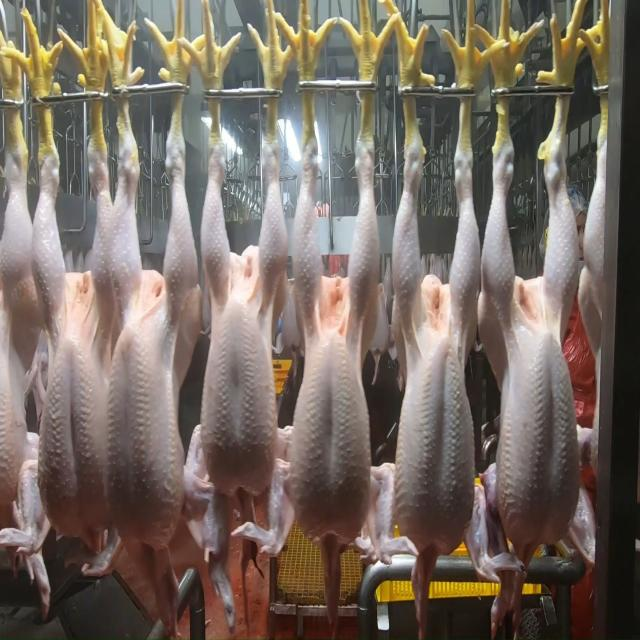chicken: (488, 113, 581, 550), (103, 136, 201, 548), (287, 133, 380, 540), (392, 135, 481, 560), (189, 139, 289, 501), (31, 141, 117, 559), (0, 124, 48, 534)
